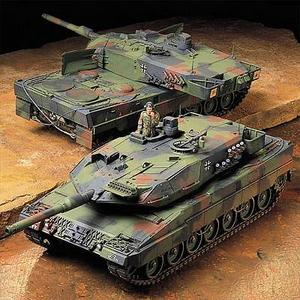Battle Tank: (24, 118, 294, 279), (19, 21, 254, 115)
